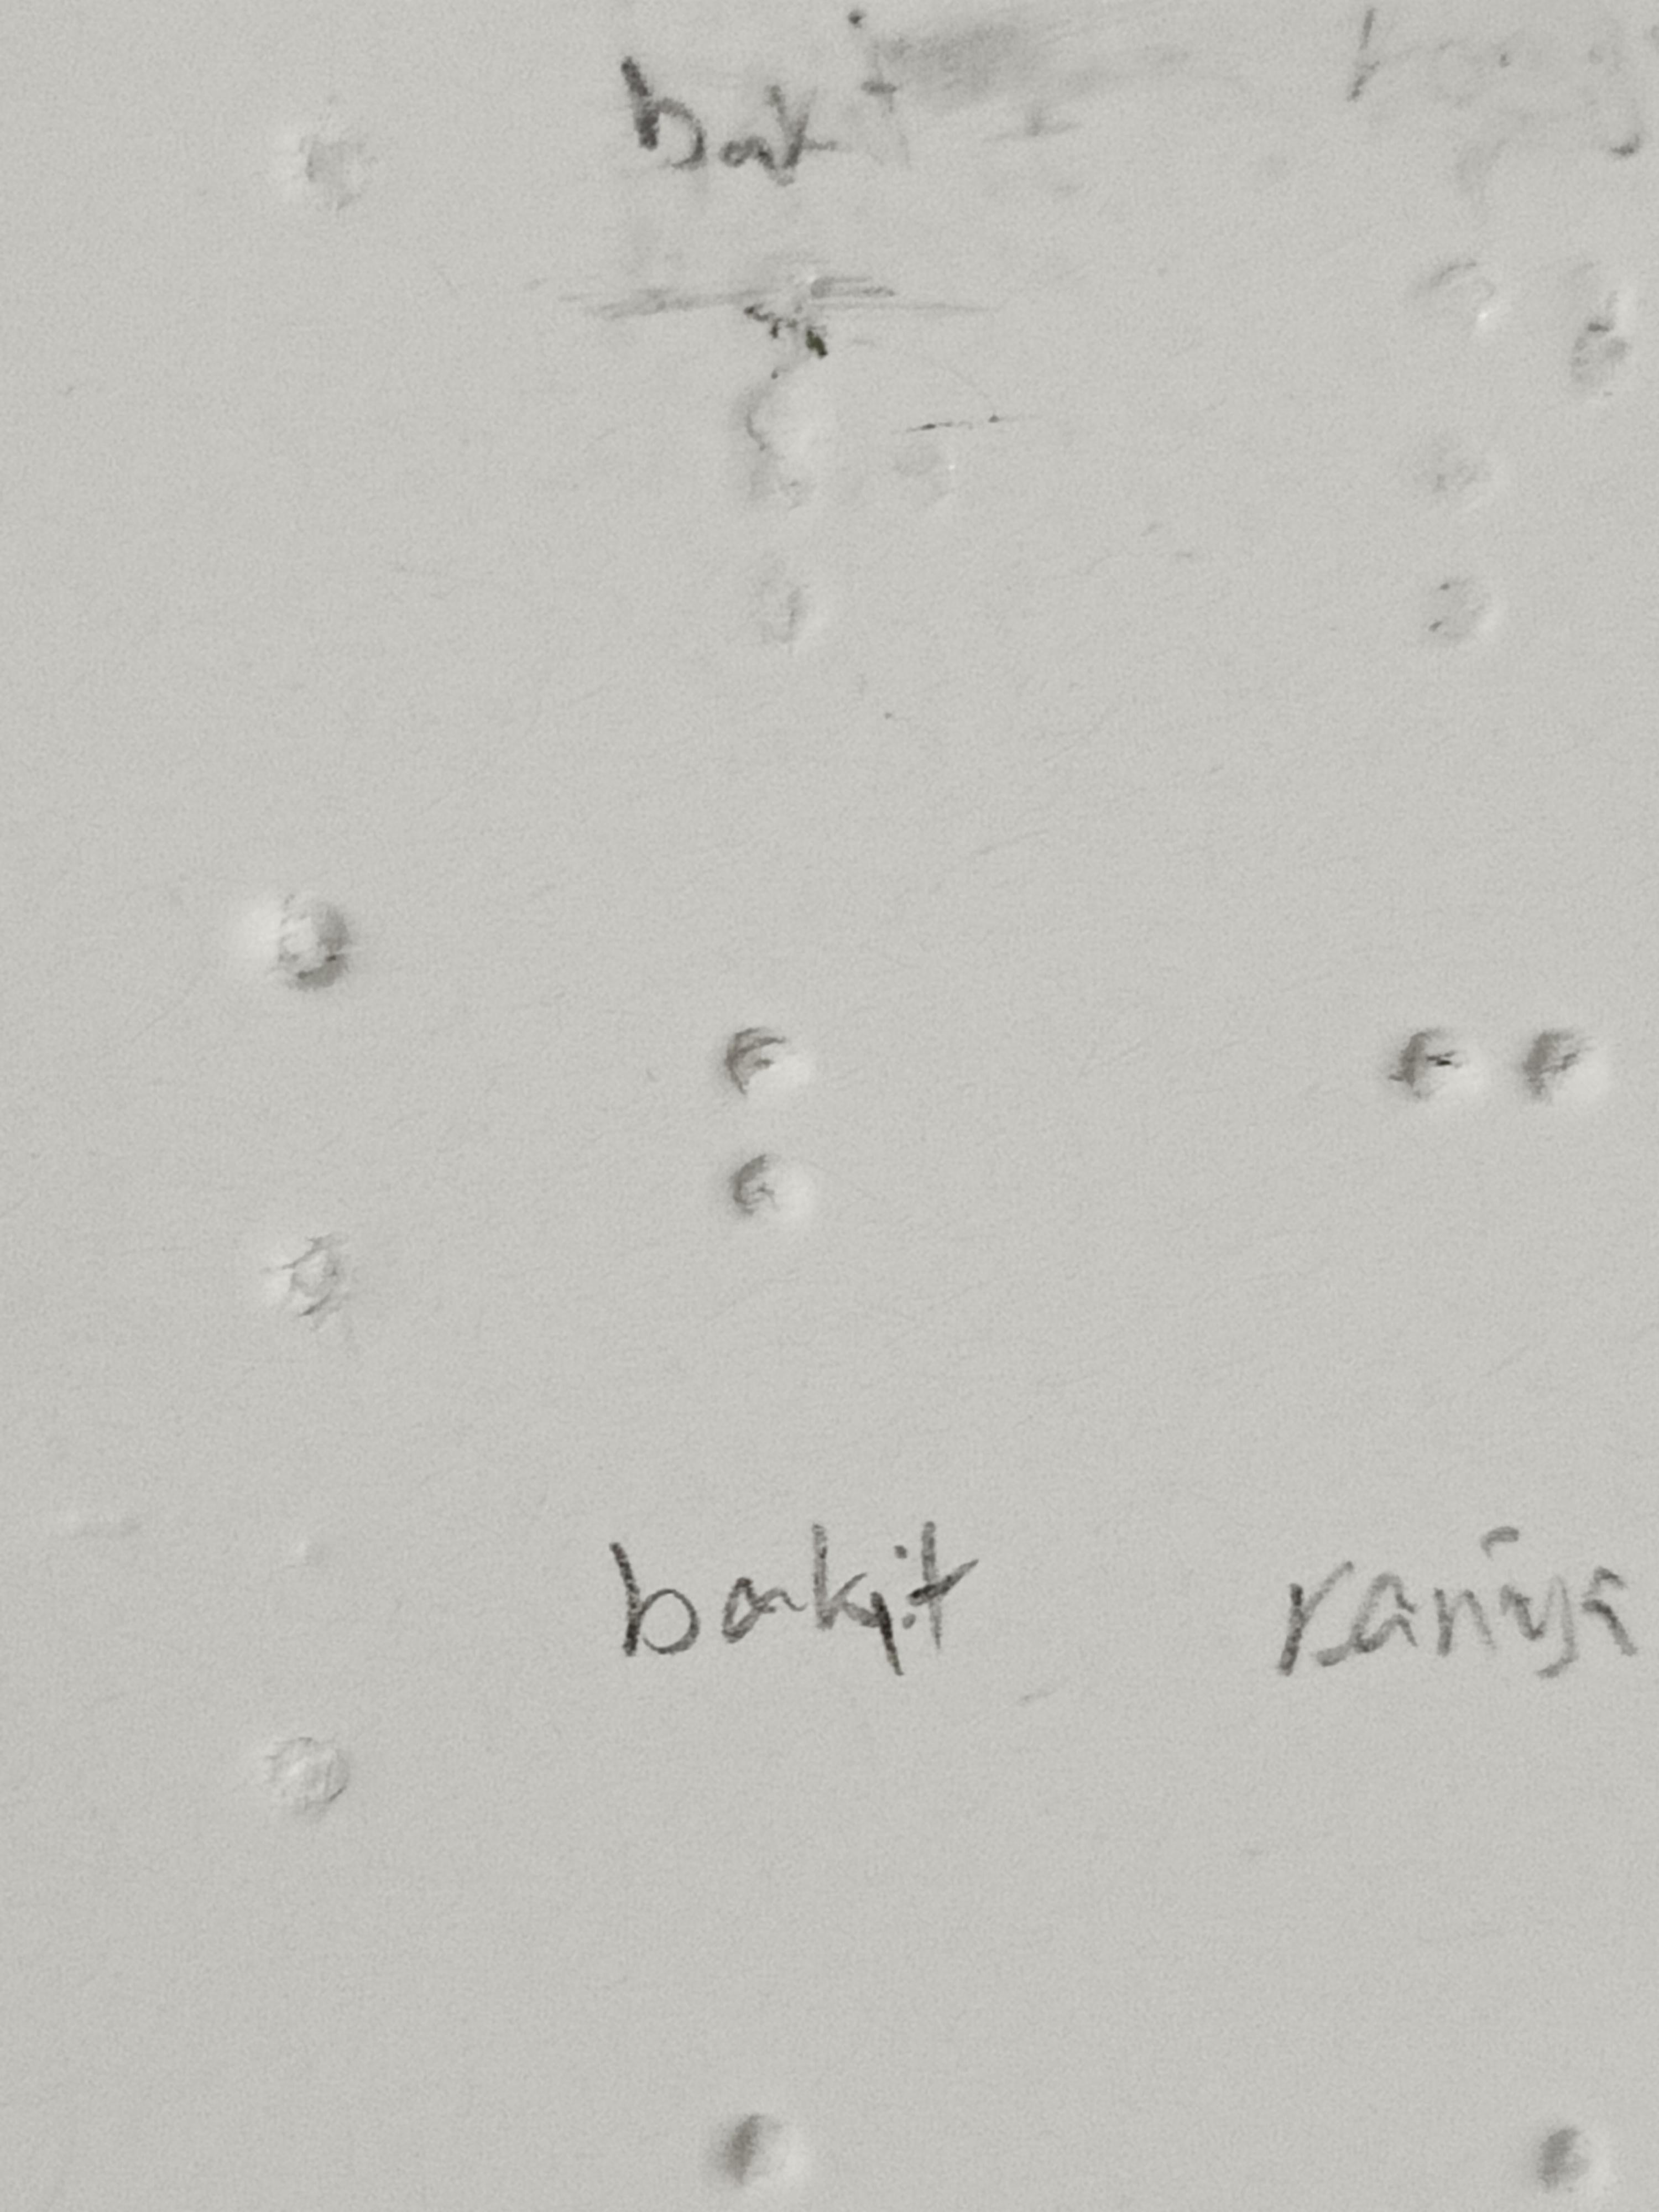one_cell_alphabet_bakit: (725, 1015, 951, 1395)
one_cell_alphabet_kaniya: (1389, 1010, 1615, 1390)
